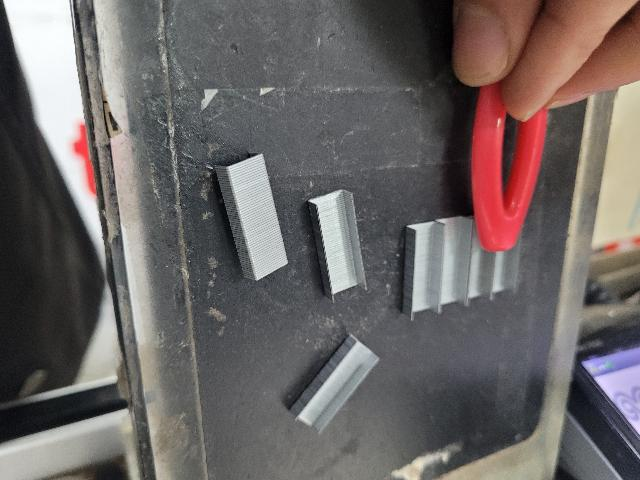Metal: (401, 211, 521, 318), (284, 329, 384, 438), (216, 149, 295, 285), (304, 184, 373, 304)
